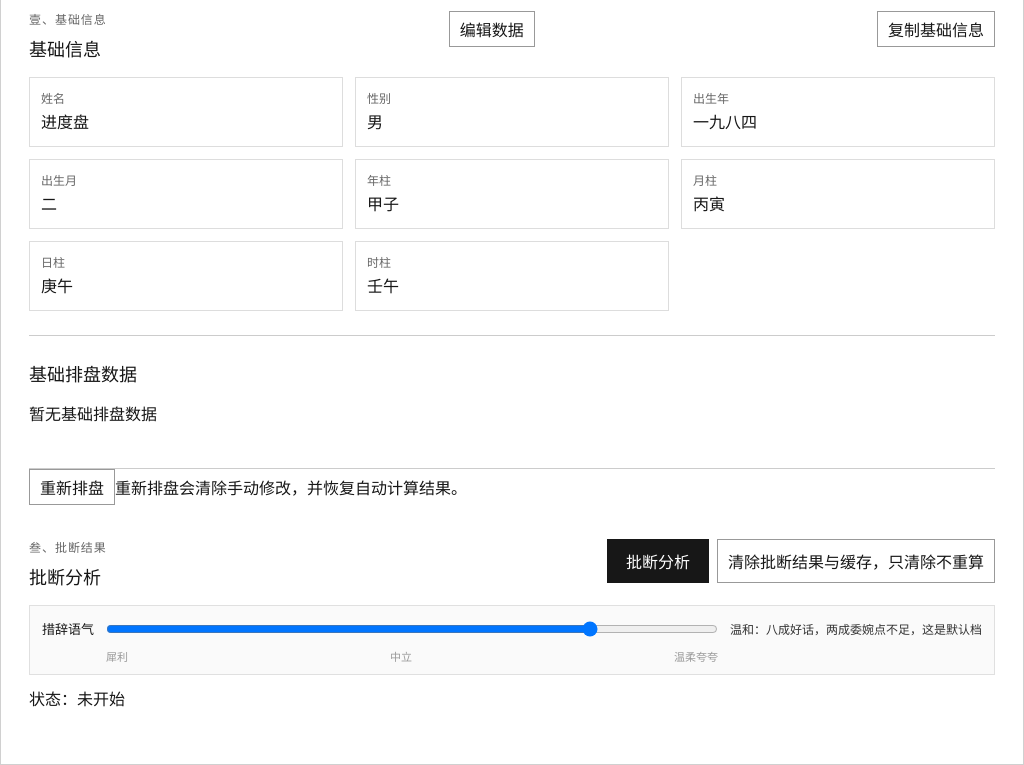
进度条分母与已完成格数(占位加得上也撤得掉) › 起跑后第一帧：aria-valuemax 已是队列+占位，进度文字仍写「任务 零」
(page scrolled)
What coordinates should you click on to do the following:
click the button "批断分析"
I would click on:
 (658, 561)
Its box is [607,539,709,583].
(page scrolled)
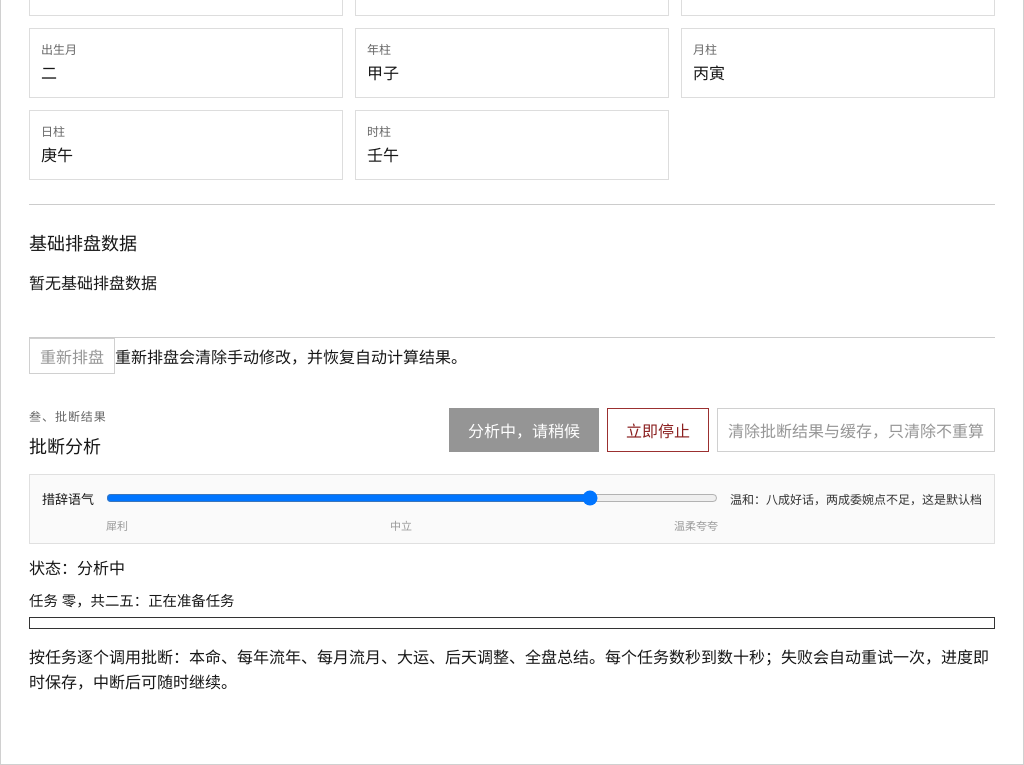
Expected: the text "任务 零，共二五：正在准备任务" is shown, [29,593,234,609]
